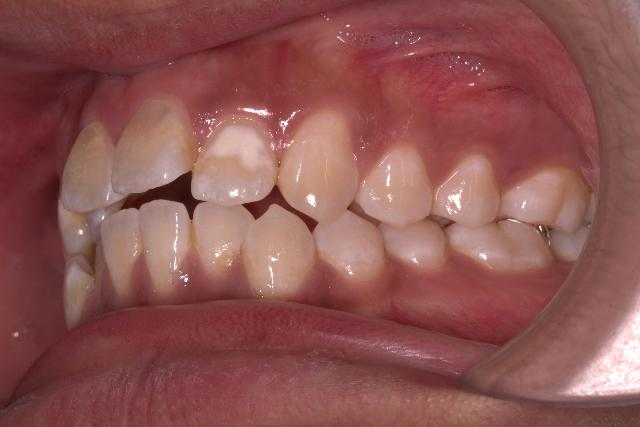canine class III 1/4: (240, 100, 386, 302)
molar class III 1/2: (444, 156, 590, 276)
